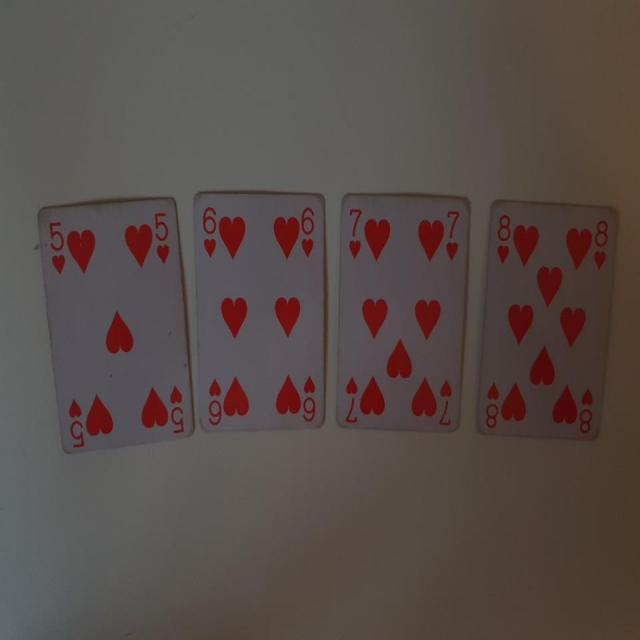5 Hearts: (31, 194, 196, 461)
6 Hearts: (193, 185, 329, 438)
7 Hearts: (334, 185, 475, 438)
8 Hearts: (473, 187, 621, 454)
